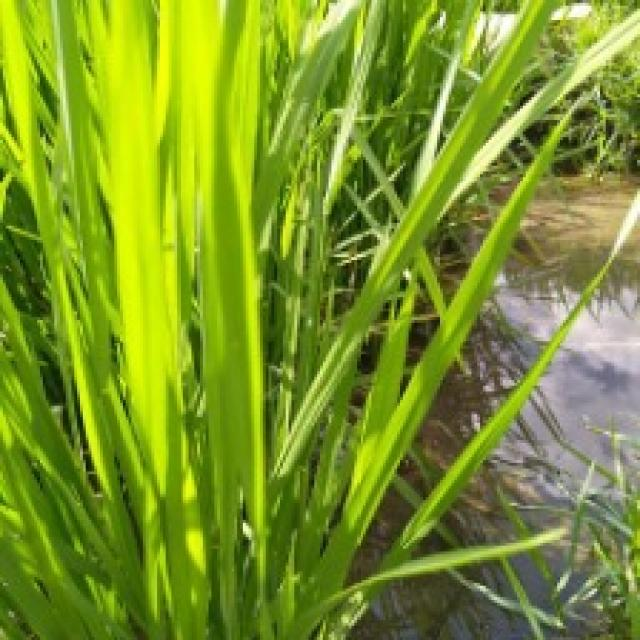Healthy-Plant: (0, 0, 449, 640)
